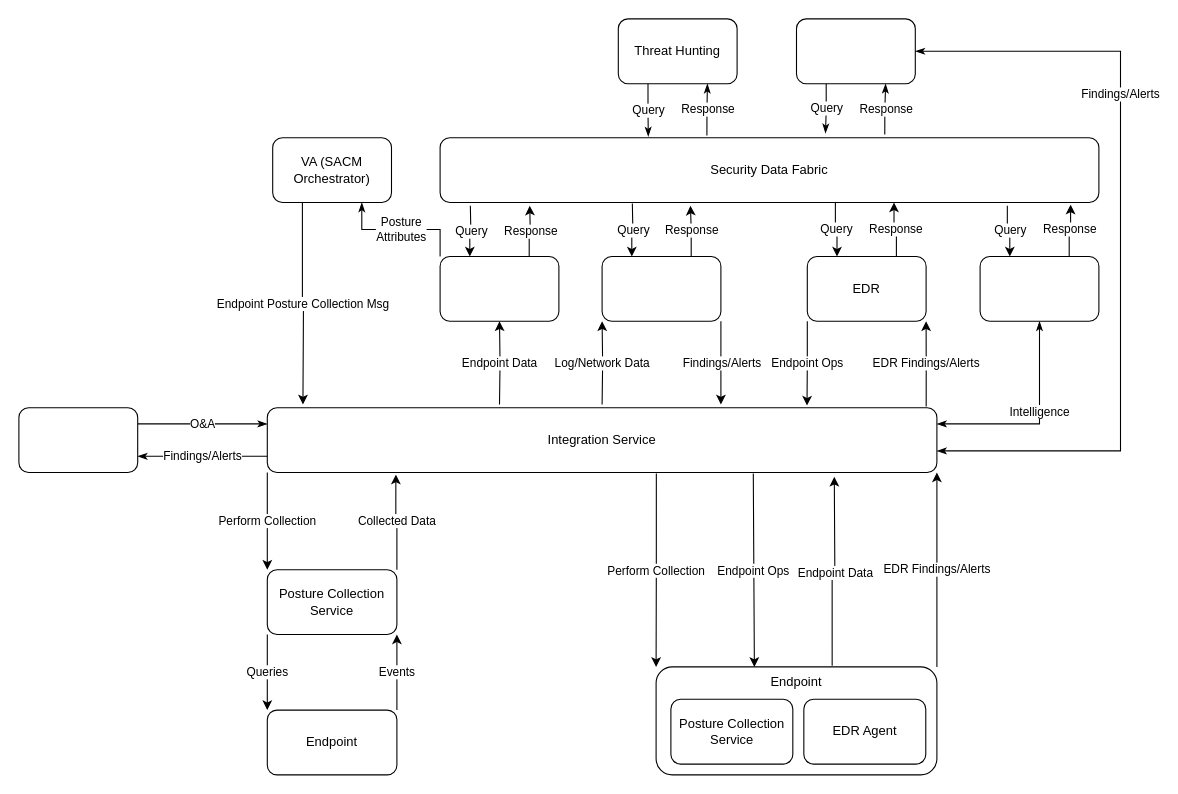
This 1178x794 diagram has some shape labels left out. Here are the shapes that lost their labels. From the top down, the centre of each, then its label:
point 855,51: Security Analytics
point 499,288: Posture Attribute Repository
point 661,288: SIEM
point 1039,288: Threat Intelligence
point 78,440: SOAR
